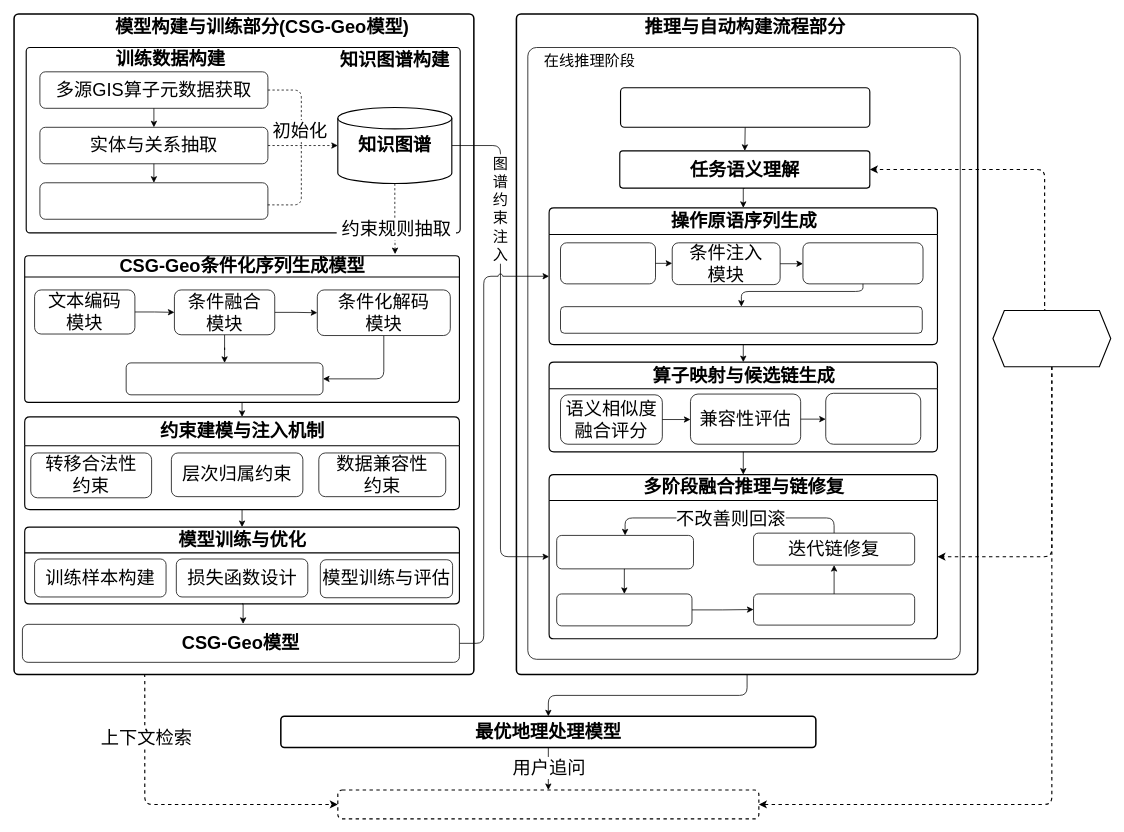
The diagram is 1124 pixels wide and 832 high, and some of its shapes have lost their labels. The centre of each missing label's shape, as x and y in pixels:
交互式追问与解释: the point at 548,804
图数据库存储与管理: the point at 153,200
多样性约束候选序列生成: the point at 741,319
大语言模型 （LLM）: the point at 1051,338
带约束的 搜索扩展: the point at 873,418
序列生成 解码器: the point at 862,263
文本编码器: the point at 608,263
结构化评分: the point at 625,552
自然语言任务描述: the point at 745,107
融合评分: the point at 834,609
语义评分: the point at 624,609
输出投影模块: the point at 224,378
